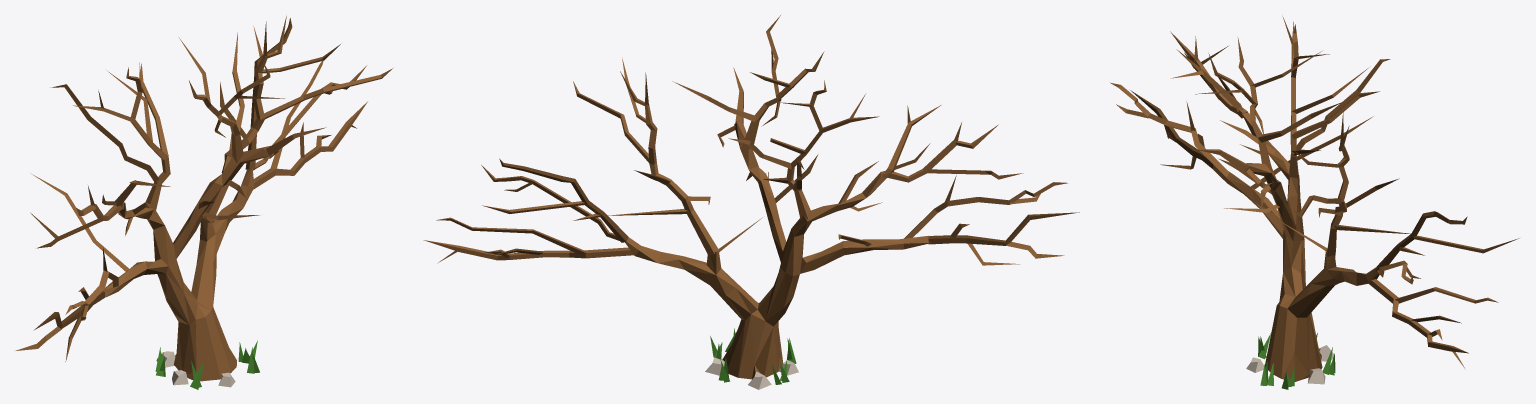
The model's file is jacaranda_1_bare.glb.
The picture shows the model from 3 angles, left to right: view 1: azimuth 30°, elevation 25°; view 2: azimuth 150°, elevation 25°; view 3: azimuth 270°, elevation 25°; orthographic projection. The views are drawn at different scales.
Parts seen in each view (by area): view 1: jacaranda_1_bare; view 2: jacaranda_1_bare; view 3: jacaranda_1_bare.
Part boxes in pixels (x1=…): jacaranda_1_bare: x1=15, y1=16, x2=392, y2=389; jacaranda_1_bare: x1=423, y1=15, x2=1079, y2=389; jacaranda_1_bare: x1=1110, y1=16, x2=1519, y2=389.
Size of the model in its own units: 9.71 by 6.08 by 7.
